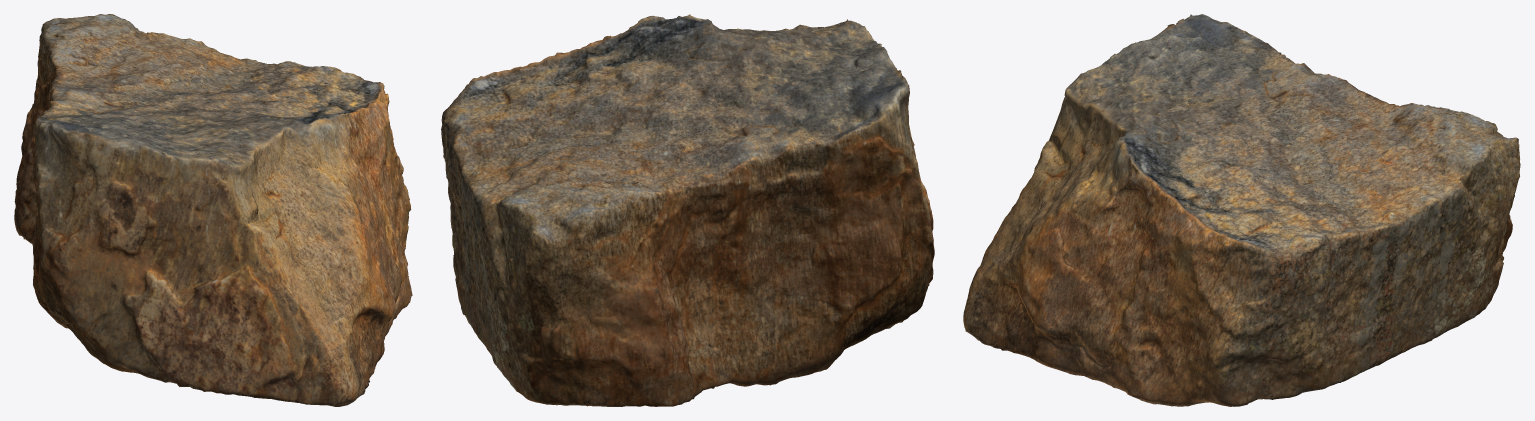
File: namaqualand_boulder_03_2k.fbx
3 renders of one model, left to right at view 1: azimuth 30°, elevation 25°; view 2: azimuth 150°, elevation 25°; view 3: azimuth 270°, elevation 25°, orthographic. The views are drawn at different scales.
Visible parts, largest first — view 1: namaqualand_boulder_03_LOD0; view 2: namaqualand_boulder_03_LOD0; view 3: namaqualand_boulder_03_LOD0.
Boxes of the visible parts, box(x1,y1,x2,y2) form: namaqualand_boulder_03_LOD0: box(14, 14, 412, 406); namaqualand_boulder_03_LOD0: box(441, 14, 934, 406); namaqualand_boulder_03_LOD0: box(963, 14, 1520, 406).
Bounding box in the file's own units: 241 × 147 × 307.
Materials: 1 (1 with a texture image).
